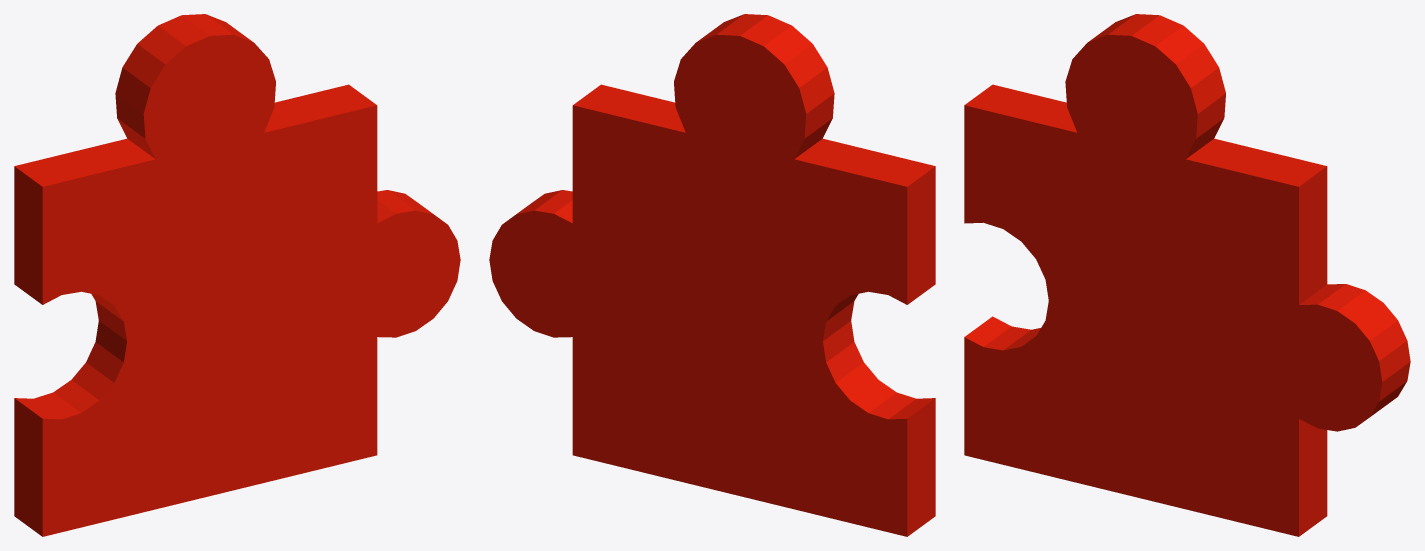
The model's file is puzzle.fbx.
The picture shows the model from 3 angles, left to right: view 1: azimuth 30°, elevation 25°; view 2: azimuth 150°, elevation 25°; view 3: azimuth 330°, elevation 25°; orthographic projection.
Parts seen in each view (by area): view 1: Layer0_001; view 2: Layer0_001; view 3: Layer0_001.
Part boxes in pixels (x1,y1,x2,y2): Layer0_001: (14, 14, 460, 536); Layer0_001: (489, 14, 935, 536); Layer0_001: (964, 14, 1410, 536).
Bounding box in the file's own units: 448 × 471 × 52.51.
